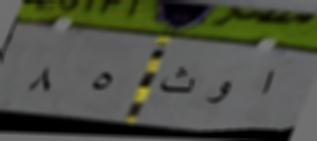5: (85, 64, 126, 101)
8: (17, 63, 65, 99)
alif: (256, 64, 280, 104)
thaa: (158, 66, 197, 102)
waw: (200, 76, 240, 112)
